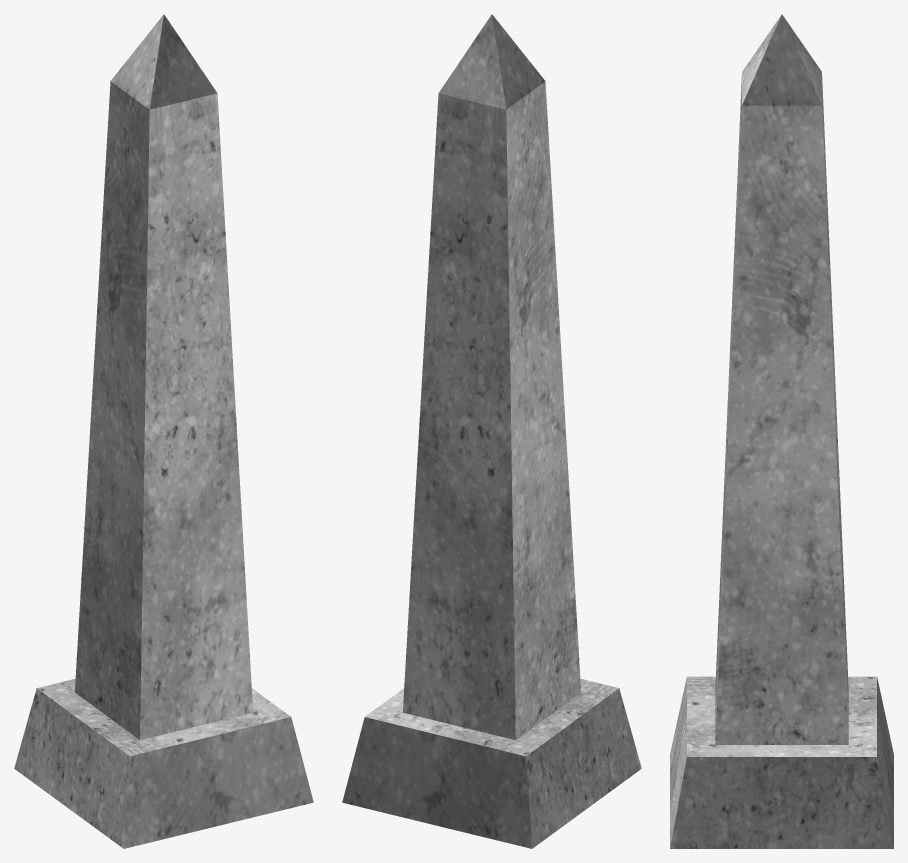
The model's file is Obelisk5_3.obj.
The picture shows the model from 3 angles, left to right: view 1: azimuth 30°, elevation 25°; view 2: azimuth 150°, elevation 25°; view 3: azimuth 270°, elevation 25°; orthographic projection. The views are drawn at different scales.
Visible parts, largest first — view 1: stone_obelisk.001; view 2: stone_obelisk.001; view 3: stone_obelisk.001.
Boxes of the visible parts, left/top/right/bottom form: stone_obelisk.001: left=14, top=14, right=313, bottom=848; stone_obelisk.001: left=342, top=14, right=641, bottom=848; stone_obelisk.001: left=670, top=14, right=893, bottom=848.
Bounding box in the file's own units: 4.7 × 18.26 × 4.7.
Materials: 1 (1 with a texture image).
